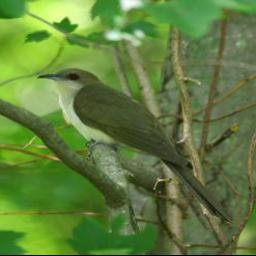Cuckoo: (36, 67, 235, 226)
